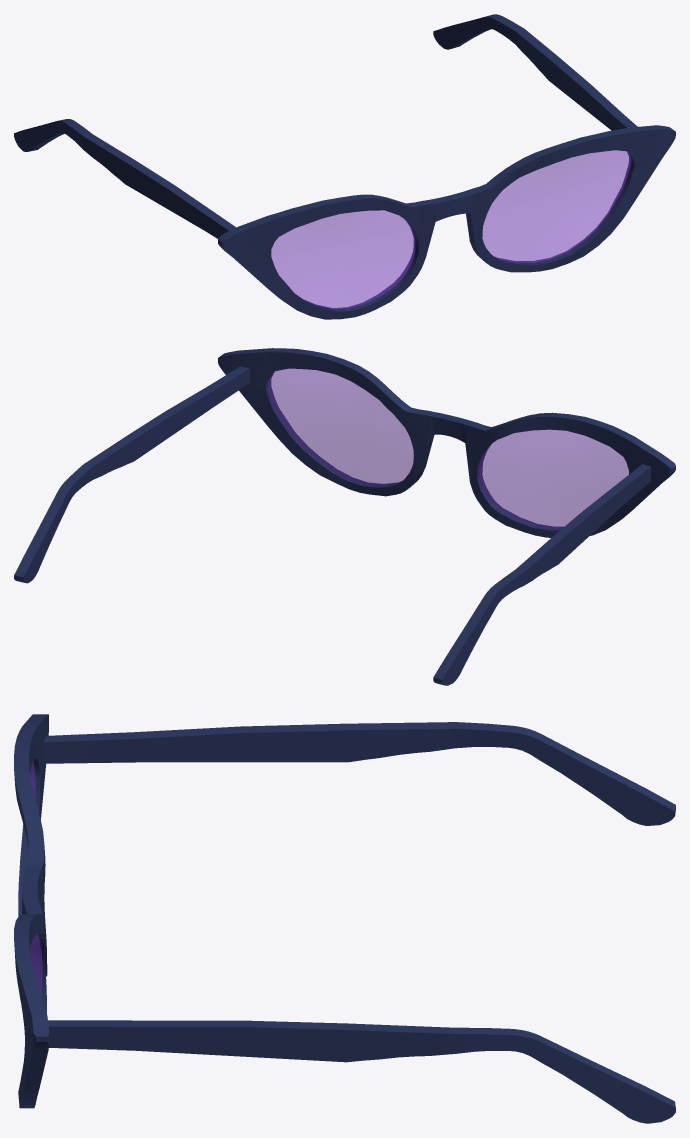
Rendered from cateyemod.glb.
The picture shows the model from 3 angles, top to bottom: view 1: azimuth 30°, elevation 25°; view 2: azimuth 150°, elevation 25°; view 3: azimuth 270°, elevation 25°; orthographic projection. The views are drawn at different scales.
Parts seen in each view (by area): view 1: Object_7.008, Object_5; view 2: Object_7.008, Object_5; view 3: Object_7.008, Object_5.
Boxes of the visible parts, x1,y1,x2,y2 form: Object_7.008: (14, 14, 675, 319); Object_5: (271, 150, 631, 309); Object_7.008: (14, 348, 675, 685); Object_5: (267, 368, 628, 529); Object_7.008: (14, 714, 675, 1123); Object_5: (30, 760, 42, 994).
Size of the model in its own units: 6.08 by 1.57 by 5.3.
Materials: 2 (1 with a texture image).
